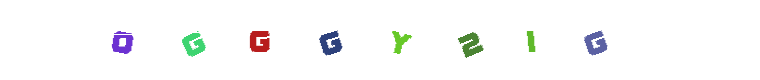0: (154, 0, 234, 80)
2: (341, 0, 421, 80)
G: (219, 0, 299, 80), (290, 0, 370, 80), (315, 0, 395, 80), (430, 0, 510, 80)
I: (410, 0, 490, 80)
Y: (326, 0, 406, 80)
